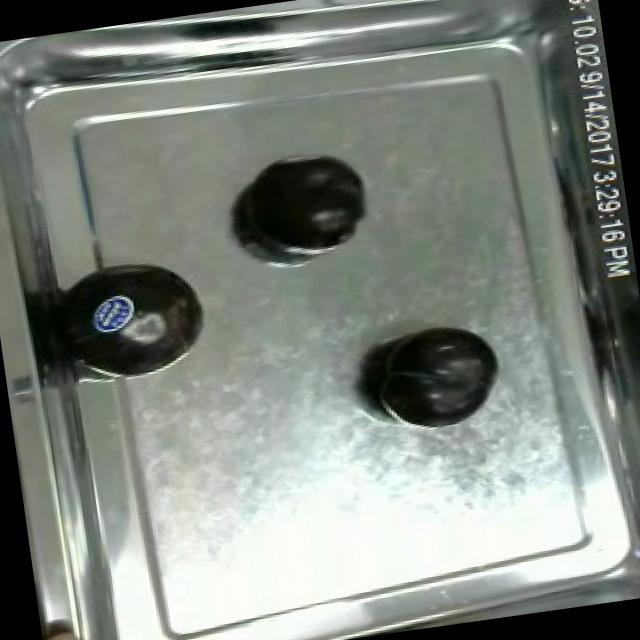Fruit: (359, 314, 511, 436), (228, 146, 376, 262), (80, 284, 146, 340), (39, 616, 104, 640)
